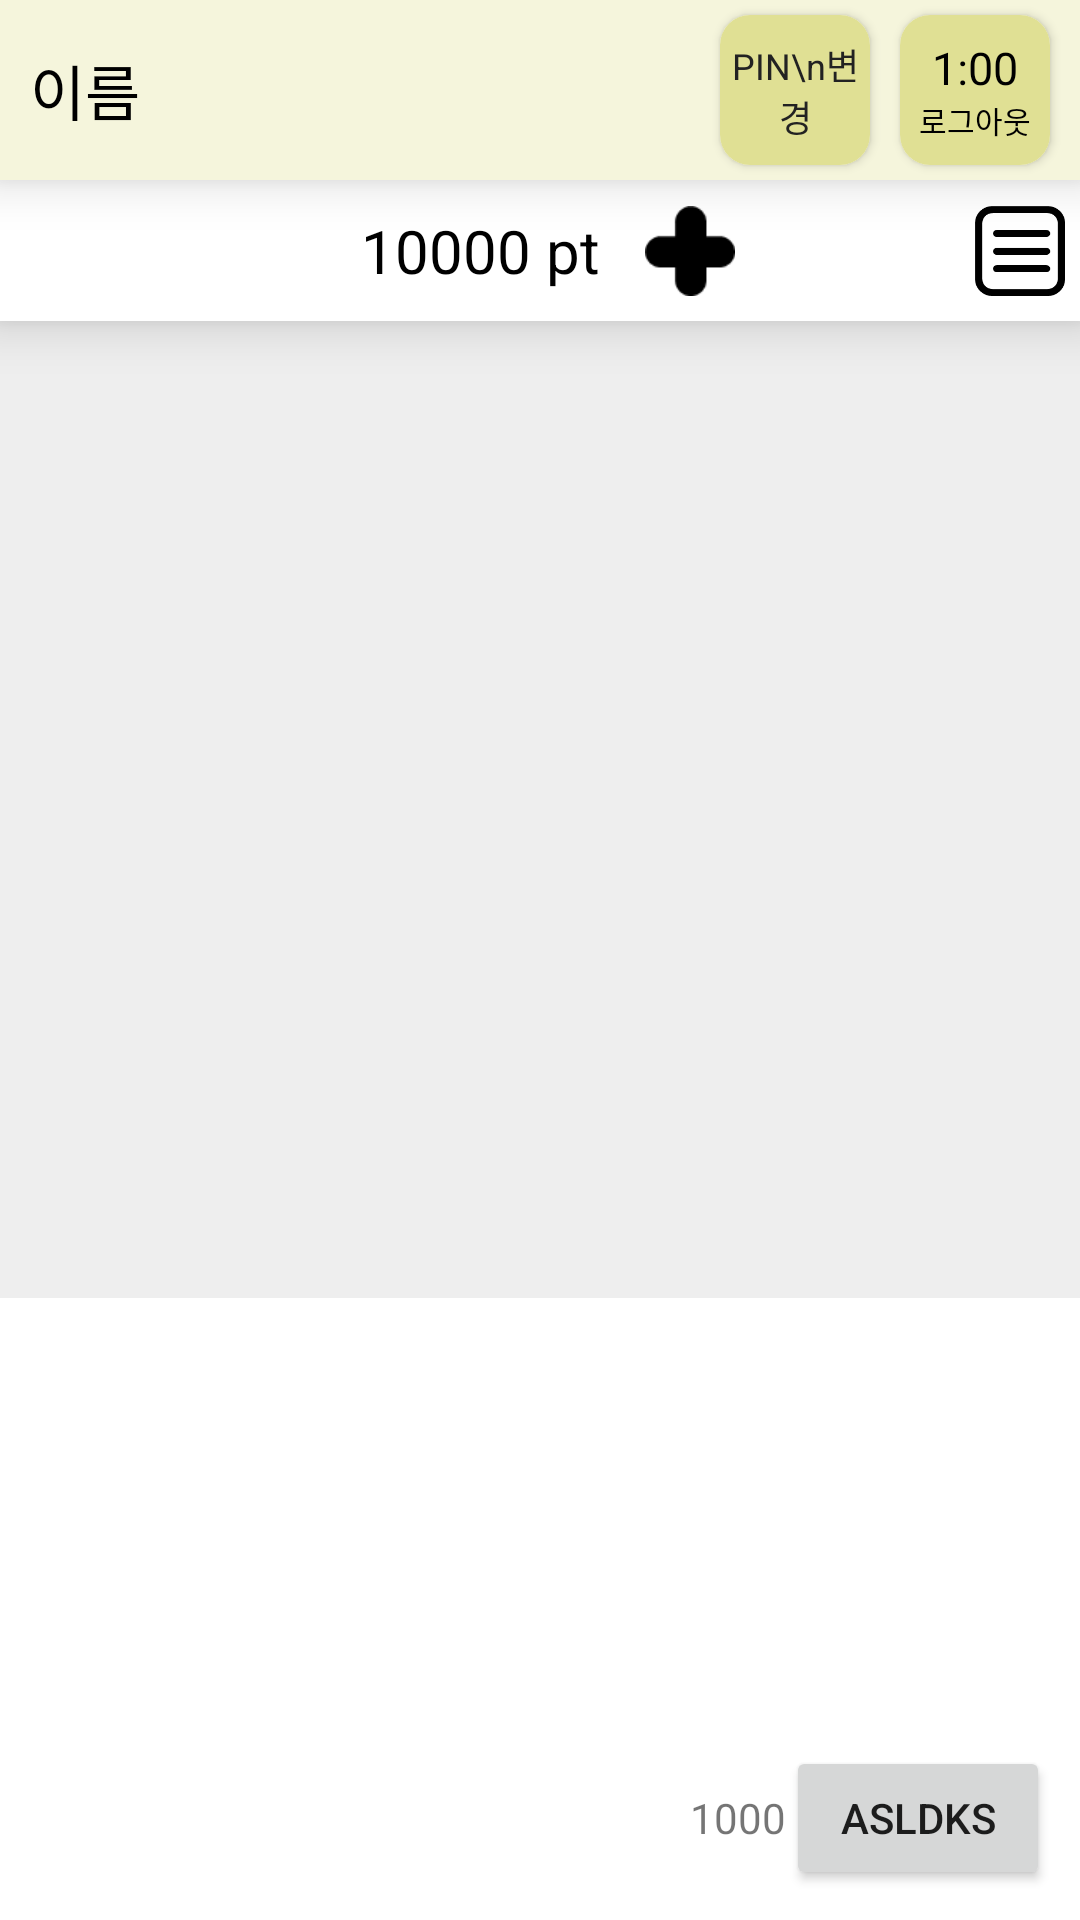

Locate icon controls on the screen. Image size 1080 × 1920, boxes as (x1, y1, x2, y2).
menu: (975, 206, 1065, 296)
plus: (645, 206, 735, 296)
